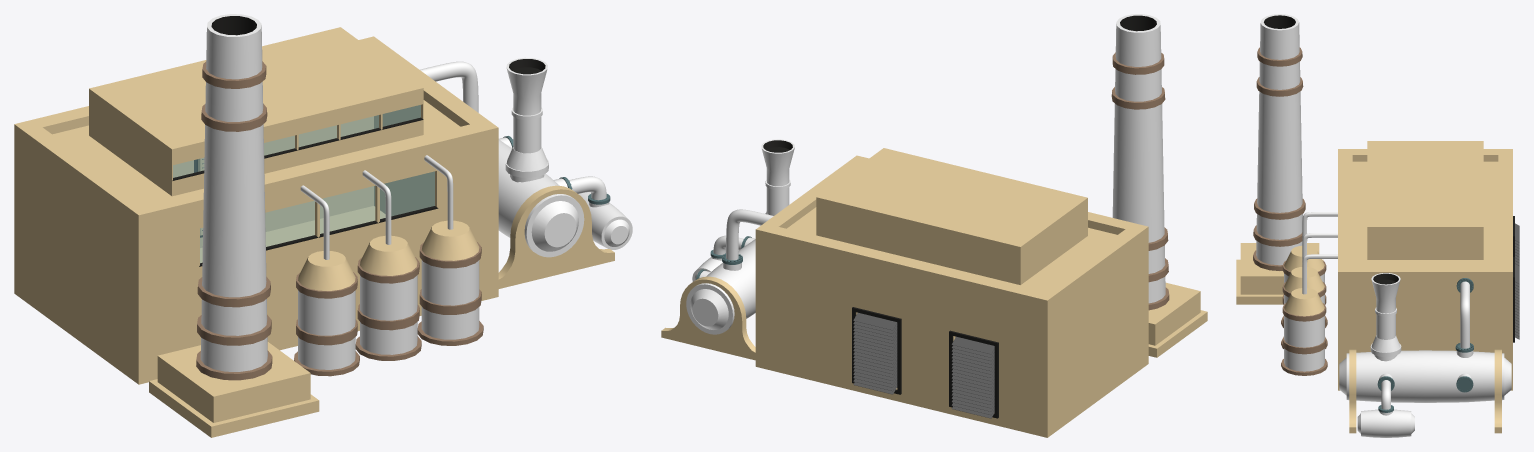
Rendered from Industrial Building.fbx.
The picture shows the model from 3 angles, left to right: view 1: azimuth 30°, elevation 25°; view 2: azimuth 150°, elevation 25°; view 3: azimuth 270°, elevation 25°; orthographic projection. The views are drawn at different scales.
Visible parts, largest first — view 1: Cube, Cube.002, Cylinder, Cylinder.002, Cylinder.003, Cylinder.004, Cube.001, NurbsPath, Cylinder.001; view 2: Cube, Cube.002, Plane, Cylinder, Cube.001, NurbsPath; view 3: Cube, Cube.002, Cylinder, Cylinder.002, Cylinder.001, Cube.001, NurbsPath, Cylinder.003, Cylinder.004, Plane, NurbsPath.001.
Part boxes in pixels (x1,y1,x2,y2): Cube: [14, 27, 498, 384]; Cube.002: [149, 14, 319, 437]; Cylinder: [498, 57, 584, 257]; Cylinder.002: [417, 220, 483, 345]; Cylinder.003: [355, 235, 421, 360]; Cylinder.004: [294, 251, 359, 376]; Cube.001: [498, 185, 614, 288]; NurbsPath: [420, 61, 606, 200]; Cylinder.001: [578, 192, 632, 249]; Cube: [755, 148, 1148, 437]; Cube.002: [1111, 14, 1207, 357]; Plane: [853, 312, 994, 418]; Cylinder: [686, 139, 794, 334]; Cube.001: [661, 276, 755, 360]; NurbsPath: [713, 209, 773, 260]; Cube: [1338, 141, 1514, 390]; Cube.002: [1236, 14, 1323, 304]; Cylinder: [1339, 273, 1511, 402]; Cylinder.002: [1281, 288, 1327, 375]; Cylinder.001: [1357, 409, 1414, 437]; Cube.001: [1349, 349, 1501, 433]; NurbsPath: [1381, 281, 1469, 409]; Cylinder.003: [1281, 267, 1327, 348]; Cylinder.004: [1281, 245, 1327, 327]; Plane: [1515, 223, 1519, 339]; NurbsPath.001: [1302, 254, 1337, 294].
Bounding box in the file's own units: 4141 × 2907 × 2831.
